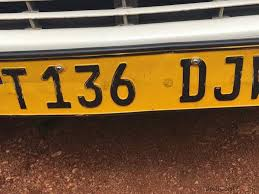T: (1, 64, 34, 114)
